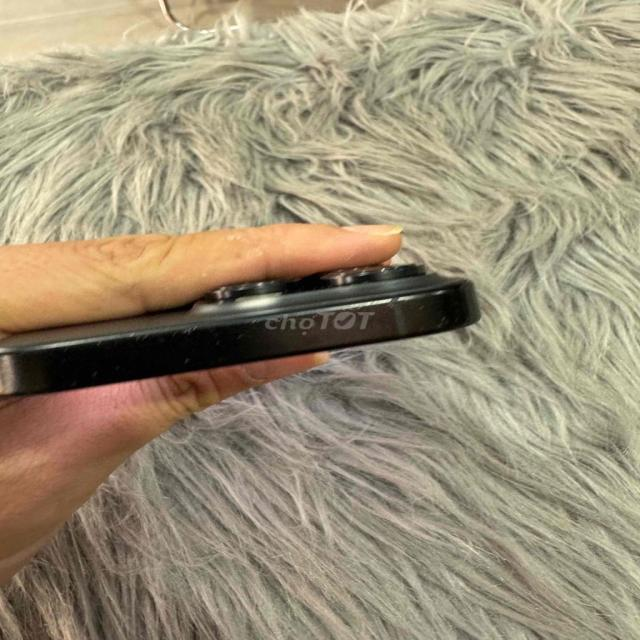scratch: (75, 316, 230, 368), (366, 294, 462, 344), (236, 311, 268, 333)
